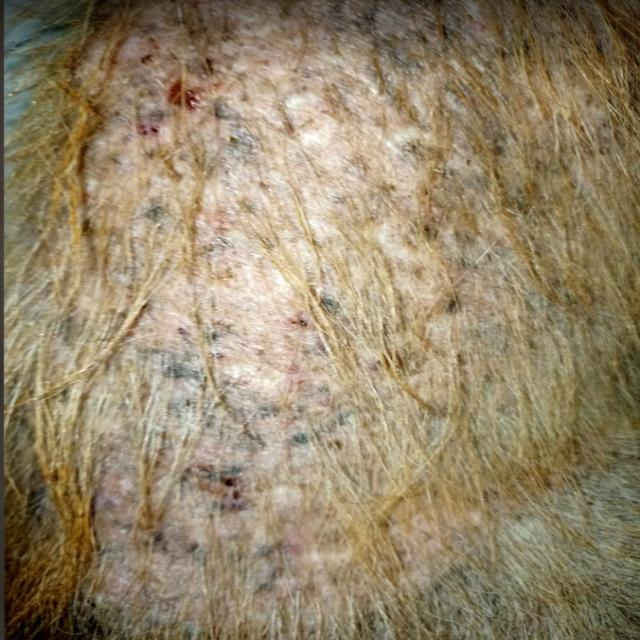demodicosis: (57, 36, 488, 547)
